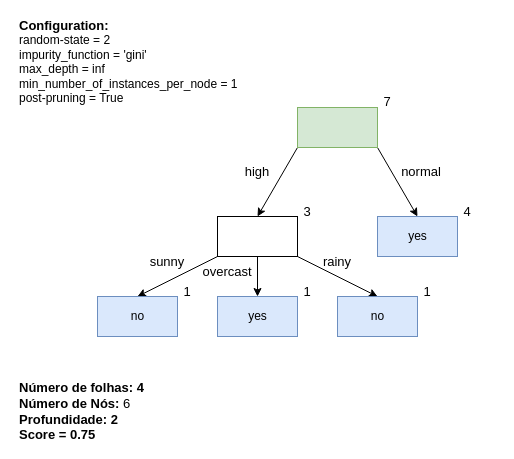
This 514x459 diagram has some shape labels left out. The box of each missing label's shape, as (x1, y1, x2, y2) in pixels:
humidity: (296, 106, 378, 148)
outlook: (216, 216, 298, 256)
